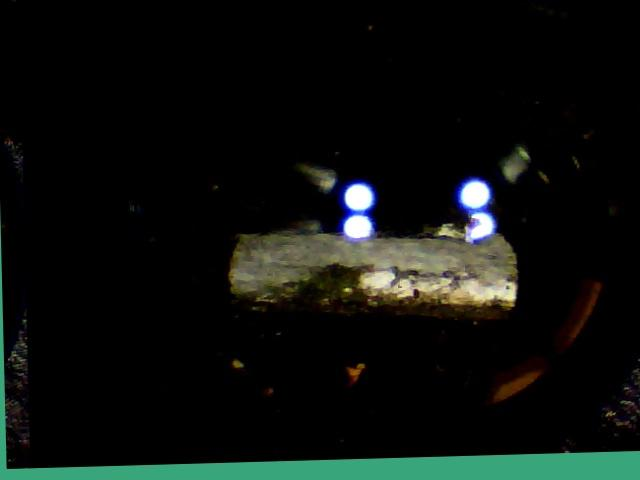megot: (216, 213, 528, 350)
